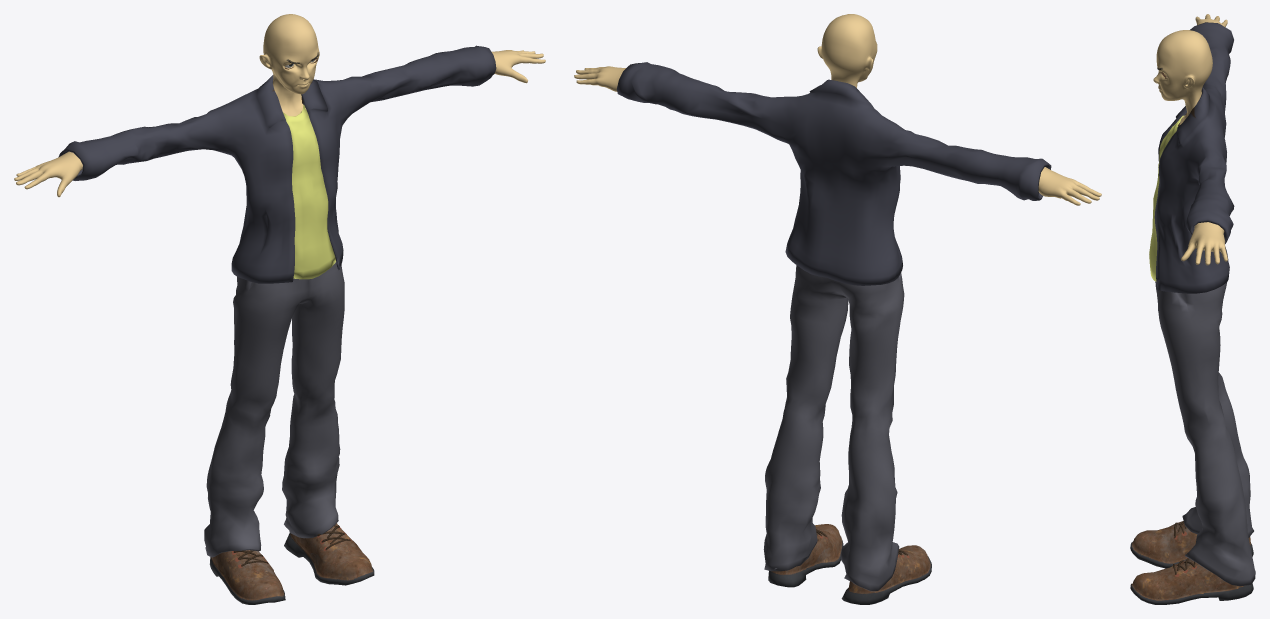
The model's file is mondomodel2.obj.
3 renders of one model, left to right at view 1: azimuth 30°, elevation 25°; view 2: azimuth 150°, elevation 25°; view 3: azimuth 270°, elevation 25°, orthographic. The views are drawn at different scales.
Parts seen in each view (by area): view 1: Tops, Bottoms, Body, Shoes; view 2: Tops, Bottoms, Body, Shoes; view 3: Bottoms, Tops, Shoes, Body.
Part boxes in pixels (box(x1,y1,x2,y2)): Tops: box(58, 45, 496, 283); Bottoms: box(204, 262, 344, 557); Body: box(14, 14, 545, 197); Shoes: box(209, 523, 374, 604); Tops: box(617, 62, 1051, 285); Bottoms: box(763, 265, 904, 591); Body: box(574, 14, 1101, 205); Shoes: box(768, 524, 931, 604); Bottoms: box(1155, 281, 1255, 586); Tops: box(1149, 22, 1234, 293); Shoes: box(1130, 521, 1253, 604); Body: box(1153, 14, 1227, 265).
Size of the model in its own units: 174 by 178 by 36.99.
